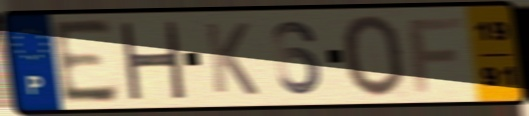6: (270, 18, 325, 97)
E: (49, 16, 123, 107)
F: (405, 14, 467, 95)
H: (115, 20, 188, 101)
K: (201, 20, 262, 98)
O: (338, 13, 409, 100)
